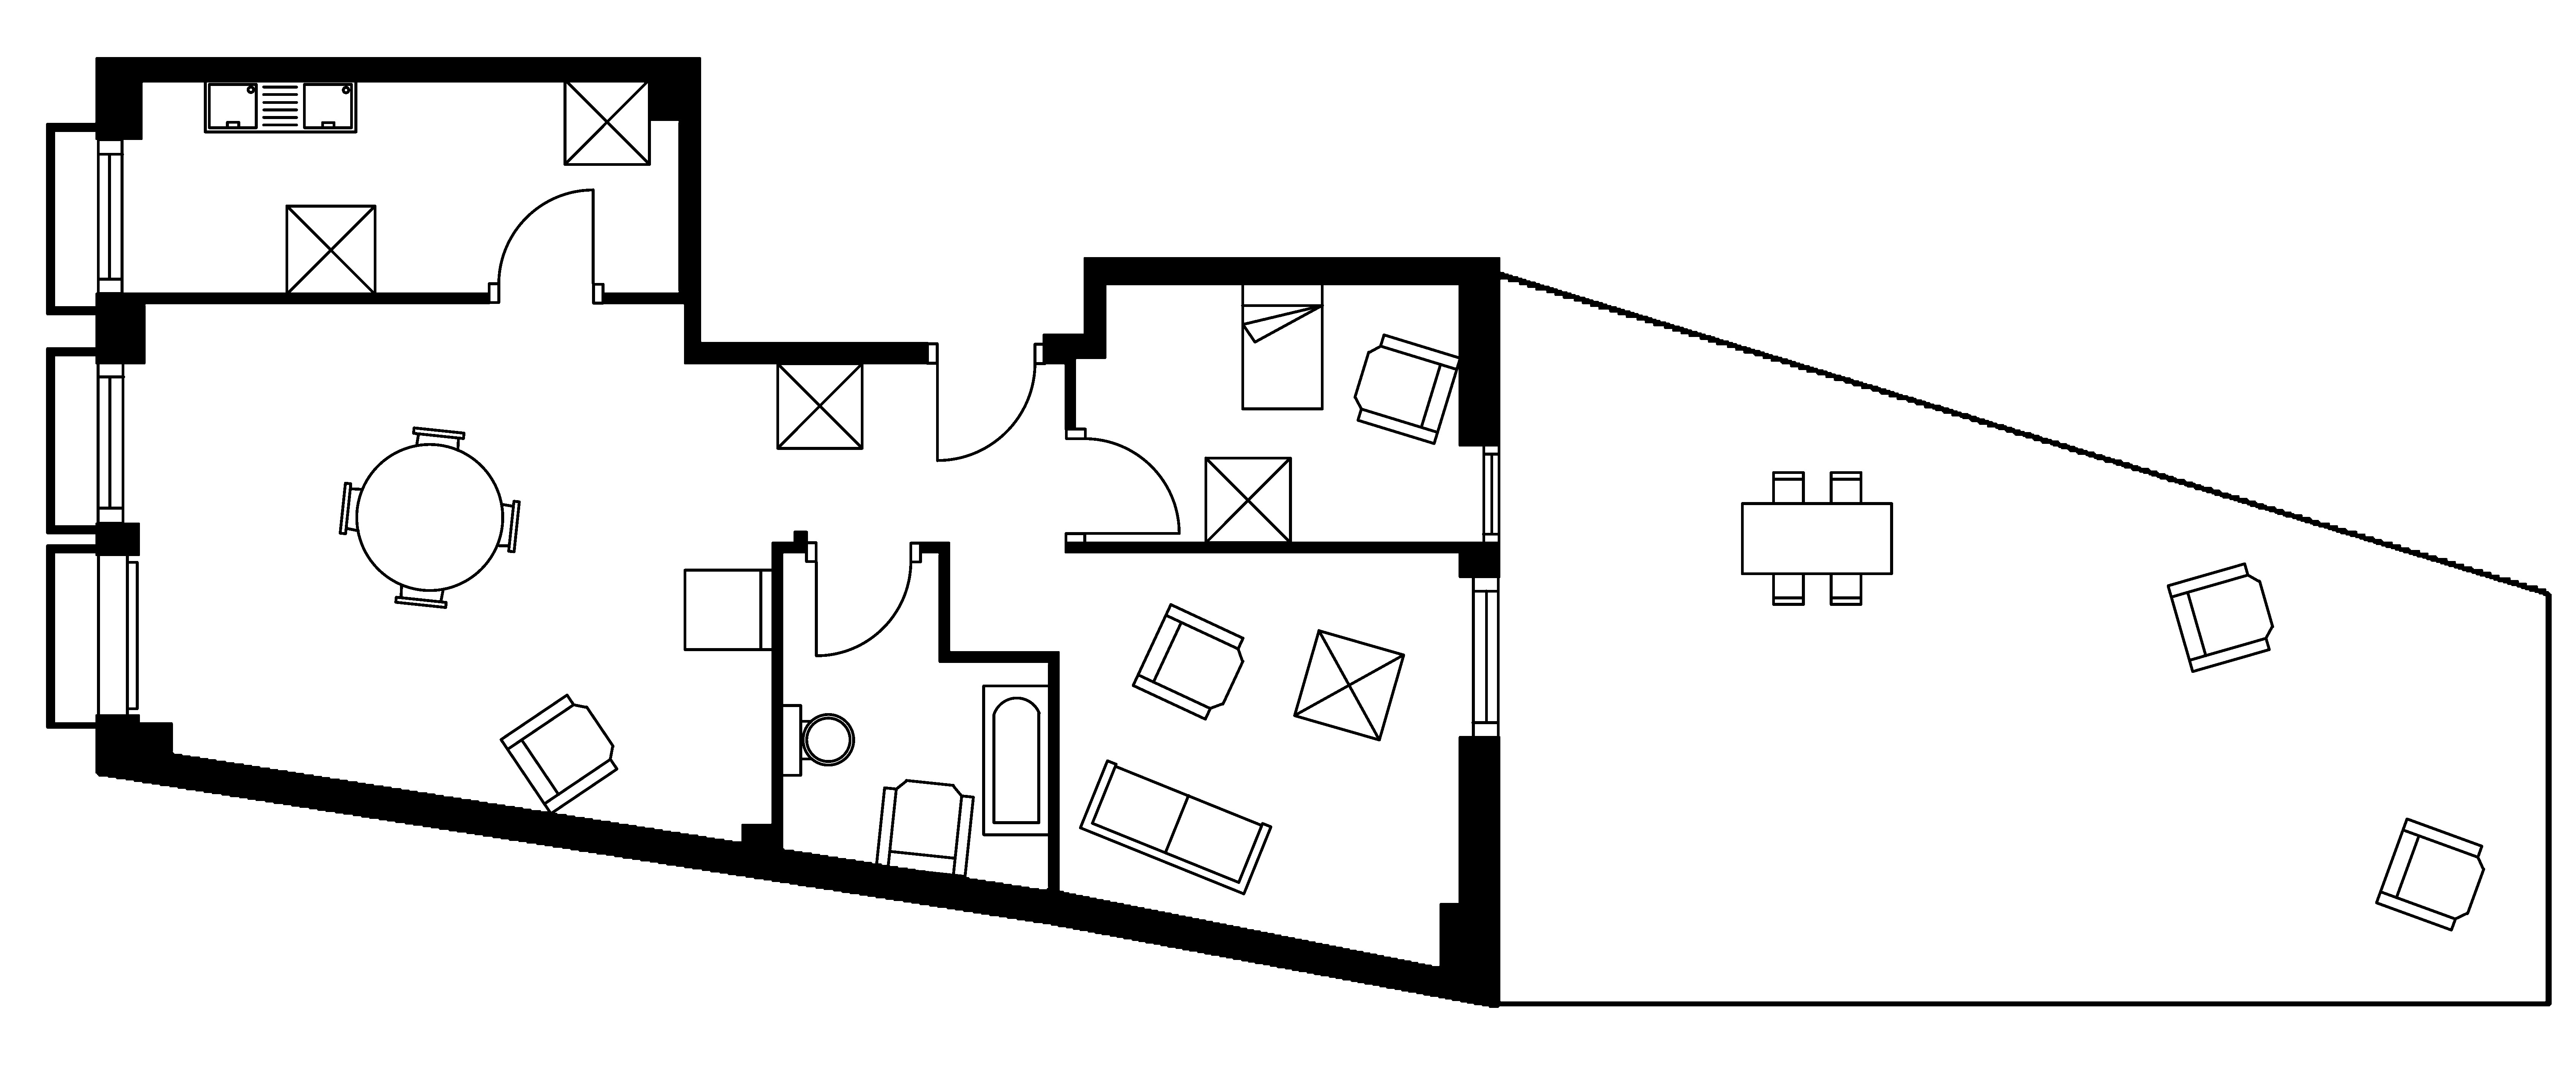armchair: (499, 692, 619, 816), (1130, 602, 1245, 720), (2374, 817, 2486, 932), (1352, 332, 1462, 446), (2165, 562, 2274, 673), (874, 778, 974, 878)
bed: (1240, 281, 1324, 411)
coffee_table: (1293, 628, 1405, 742), (284, 204, 376, 296), (562, 77, 651, 166), (775, 362, 864, 451), (1204, 456, 1291, 544)
dining_table: (1740, 470, 1893, 605)
large_sink: (780, 704, 854, 778)
large_sofa: (1078, 758, 1273, 896)
round_table: (338, 426, 521, 610)
small_sofa: (682, 567, 774, 651)
tub: (981, 684, 1051, 837)
twin_sink: (202, 77, 358, 133)
